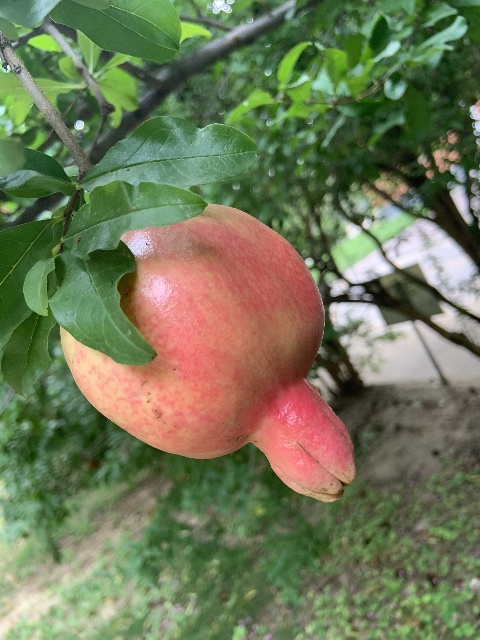ripe: (57, 204, 355, 501)
